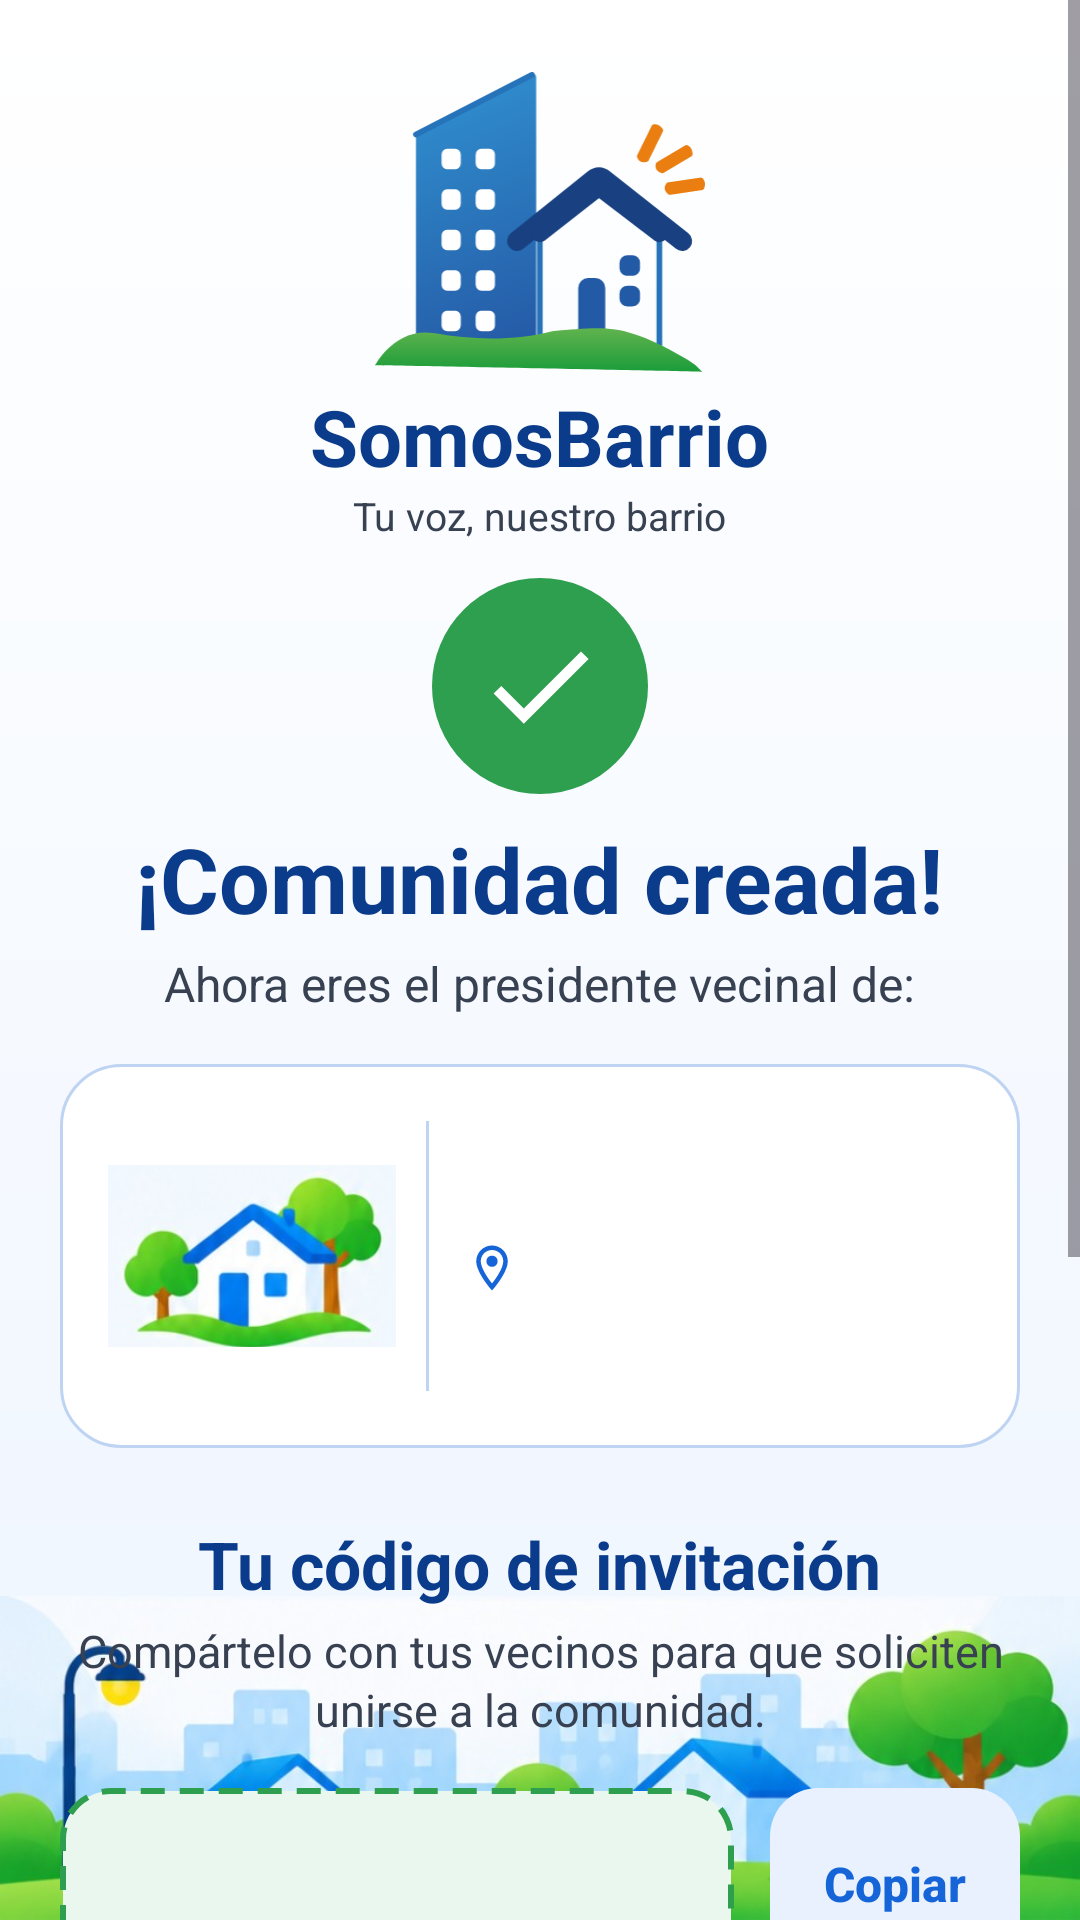

Icons on this 1080*1920 Android screen, each with its box as (x1, y1, x2, y2):
check circle: (432, 578, 648, 794)
ilustracion casa card: (123, 1176, 382, 1347)
location: (476, 1245, 508, 1290)
